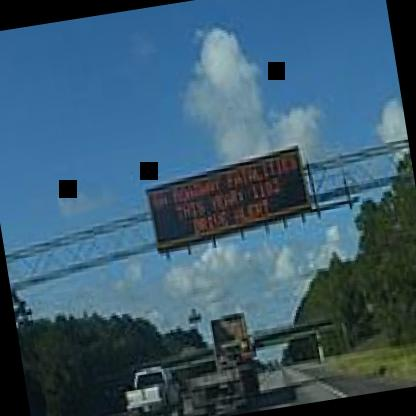car: (170, 295, 293, 416), (96, 342, 192, 416)
